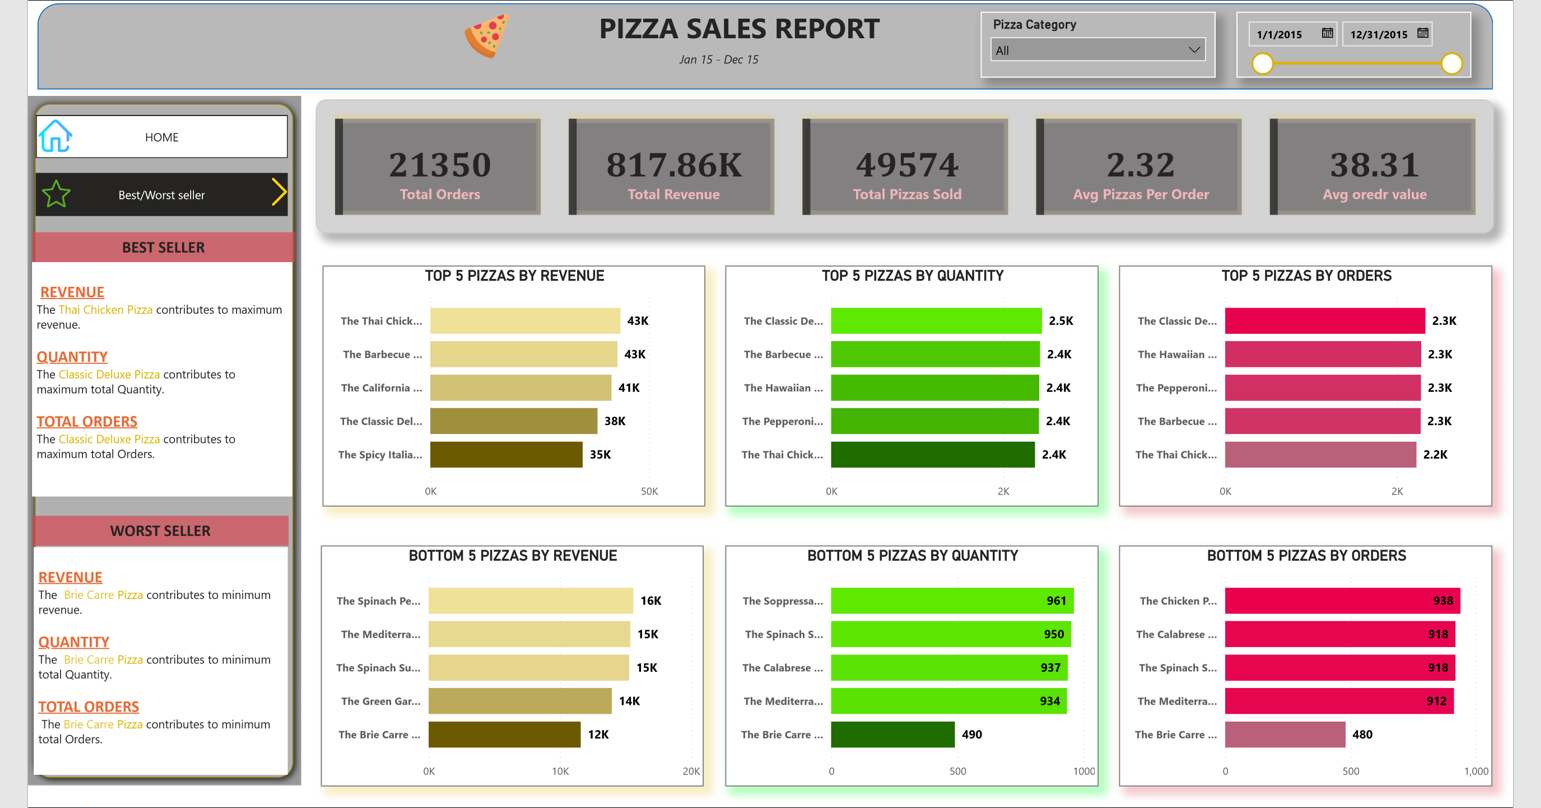

Layout of this report page (visuals, bound fields, positions):
{"tool":"powerbi","page":{"name":"Best/Worst seller","canvas":[1700,1100],"ordinal":1},"visuals":[{"type":"cardVisual","fields":{"Data":["pizza_sales.Total Orders","pizza_sales.Total Revenue","pizza_sales.Total Pizzas Sold","pizza_sales.Avg Pizzas Per Order","pizza_sales.Avg oredr value"]},"box":[329.4,123.5,1345.6,152.9],"z":0},{"type":"shape","box":[0,120.6,313.2,788.2],"z":1000},{"type":"shape","box":[11.8,13.2,1663.2,98.5],"z":2000},{"type":"textbox","box":[702.9,63.2,177.9,48.5],"z":3000},{"type":"textbox","box":[555.9,13.2,516.2,72.1],"z":4000},{"type":"textbox","box":[5.9,600,292.6,33.8],"z":5000},{"type":"image","box":[494.1,4.4,63.2,95.6],"z":6000},{"type":"textbox","box":[5.9,310.3,297.1,267.6],"z":7000},{"type":"textbox","box":[8.8,635.3,289.7,260.3],"z":8000},{"type":"textbox","box":[5.9,276.5,300,33.8],"z":9000},{"type":"slicer","fields":{"Values":["pizza_sales.pizza_category"]},"box":[1089.7,25,267.6,75],"z":10000},{"type":"slicer","fields":{"Values":["pizza_sales.order_date"]},"box":[1382.4,25,267.6,75],"z":11000},{"type":"barChart","title":"TOP 5 PIZZAS BY REVENUE","fields":{"Category":["pizza_sales.pizza_name"],"Y":["pizza_sales.Total Revenue"]},"box":[338.2,313.2,436.8,275],"z":11007},{"type":"barChart","title":"BOTTOM 5 PIZZAS BY REVENUE","fields":{"Category":["pizza_sales.pizza_name"],"Y":["pizza_sales.Total Revenue"]},"box":[336.8,633.8,436.8,275],"z":11008},{"type":"barChart","title":"TOP 5 PIZZAS BY QUANTITY","fields":{"Category":["pizza_sales.pizza_name"],"Y":["pizza_sales.Total Pizzas Sold"]},"box":[797.1,313.2,426.5,275],"z":11009},{"type":"barChart","title":"BOTTOM 5 PIZZAS BY QUANTITY","fields":{"Category":["pizza_sales.pizza_name"],"Y":["pizza_sales.Total Pizzas Sold"]},"box":[797.1,633.8,426.5,275],"z":11010},{"type":"barChart","title":"TOP 5 PIZZAS BY ORDERS","fields":{"Category":["pizza_sales.pizza_name"],"Y":["pizza_sales.Total Orders"]},"box":[1248.5,313.2,426.5,275],"z":11011},{"type":"barChart","title":"BOTTOM 5 PIZZAS BY ORDERS","fields":{"Category":["pizza_sales.pizza_name"],"Y":["pizza_sales.Total Orders"]},"box":[1248.5,633.8,426.5,275],"z":11013},{"type":"pageNavigator","box":[10.3,207.4,288.2,50],"z":11014},{"type":"pageNavigator","box":[10.3,142.6,288.2,50],"z":11015},{"type":"image","box":[239.7,207.4,97.1,42.6],"z":11016},{"type":"image","box":[8.8,138.2,48.5,54.4],"z":11017},{"type":"image","box":[0,210.3,66.2,42.6],"z":11018}]}

Visuals, with their boxes on the page's 1700x1100 design canvas (x1, y1, x2, y2). These are canvas units, not pixel positions in the 1541x808 screenshot, which may show the page scaled, cropped or inside an application window:
cardVisual - pizza_sales.Total Orders x pizza_sales.Total Revenue: 329, 124, 1675, 276
shape: 0, 121, 313, 909
shape: 12, 13, 1675, 112
textbox: 703, 63, 881, 112
textbox: 556, 13, 1072, 85
textbox: 6, 600, 298, 634
image: 494, 4, 557, 100
textbox: 6, 310, 303, 578
textbox: 9, 635, 298, 896
textbox: 6, 276, 306, 310
slicer - pizza_sales.pizza_category: 1090, 25, 1357, 100
slicer - pizza_sales.order_date: 1382, 25, 1650, 100
"TOP 5 PIZZAS BY REVENUE" barChart: 338, 313, 775, 588
"BOTTOM 5 PIZZAS BY REVENUE" barChart: 337, 634, 774, 909
"TOP 5 PIZZAS BY QUANTITY" barChart: 797, 313, 1224, 588
"BOTTOM 5 PIZZAS BY QUANTITY" barChart: 797, 634, 1224, 909
"TOP 5 PIZZAS BY ORDERS" barChart: 1248, 313, 1675, 588
"BOTTOM 5 PIZZAS BY ORDERS" barChart: 1248, 634, 1675, 909
pageNavigator: 10, 207, 298, 257
pageNavigator: 10, 143, 298, 193
image: 240, 207, 337, 250
image: 9, 138, 57, 193
image: 0, 210, 66, 253
